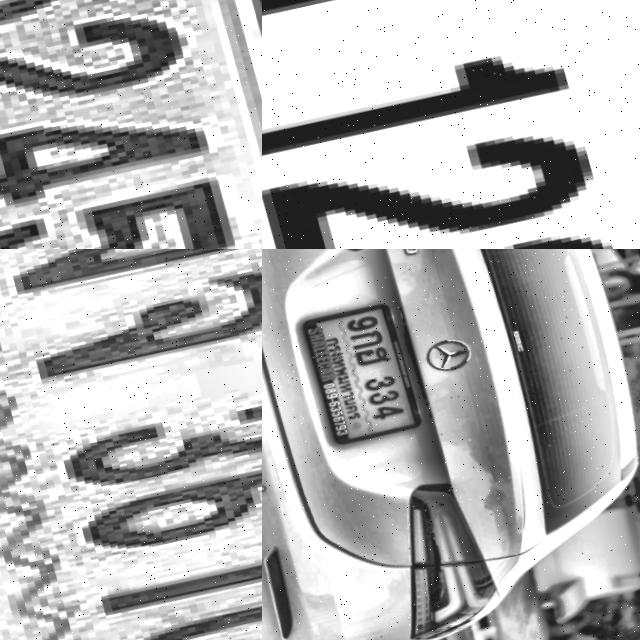license-plate: (0, 249, 262, 640), (262, 0, 640, 249), (0, 0, 262, 249), (298, 298, 424, 447)
